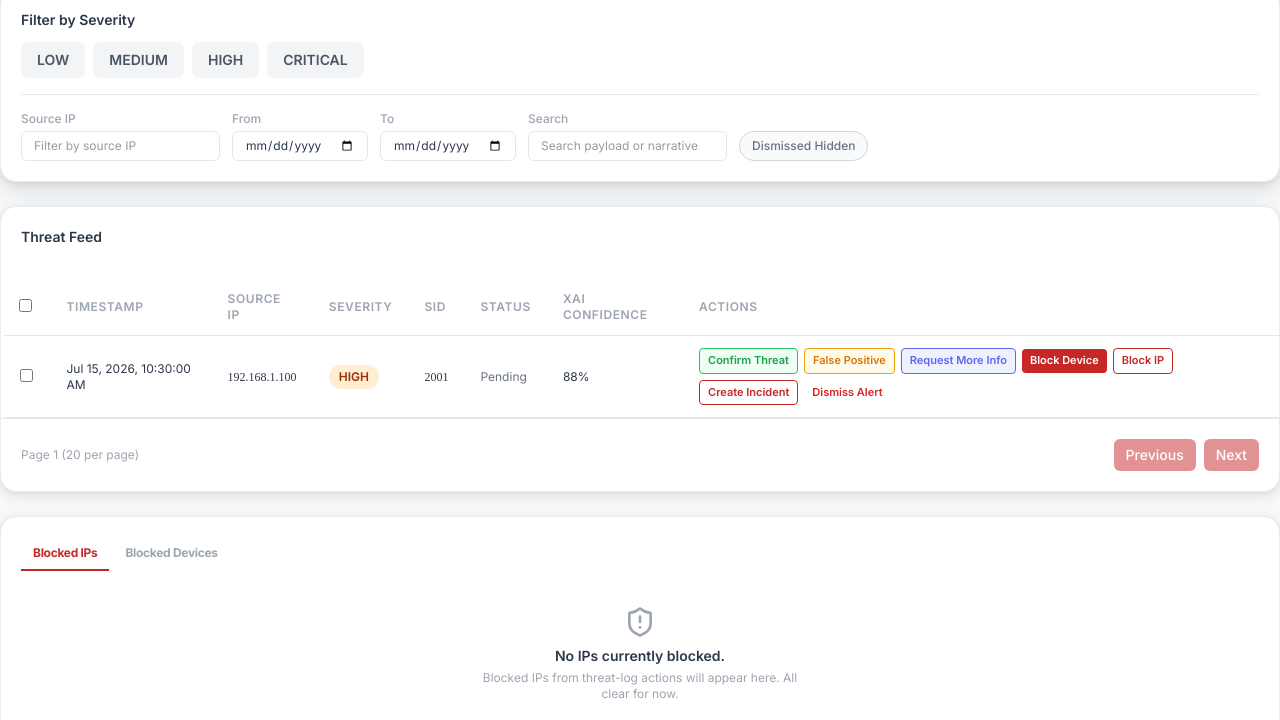
Scenario: M8: Security Monitoring page — device-vs-IP blocking flow (#571) › Block Device button confirms once and blocks the device only
The width and height of the screenshot is (1280, 720).
(page scrolled)
Check: the text "192.168.1.100" is shown, box [212,336,313,418]
Step 1. Click the button "Block Device" → coordinates (1064, 361), box [1022,349,1107,373]
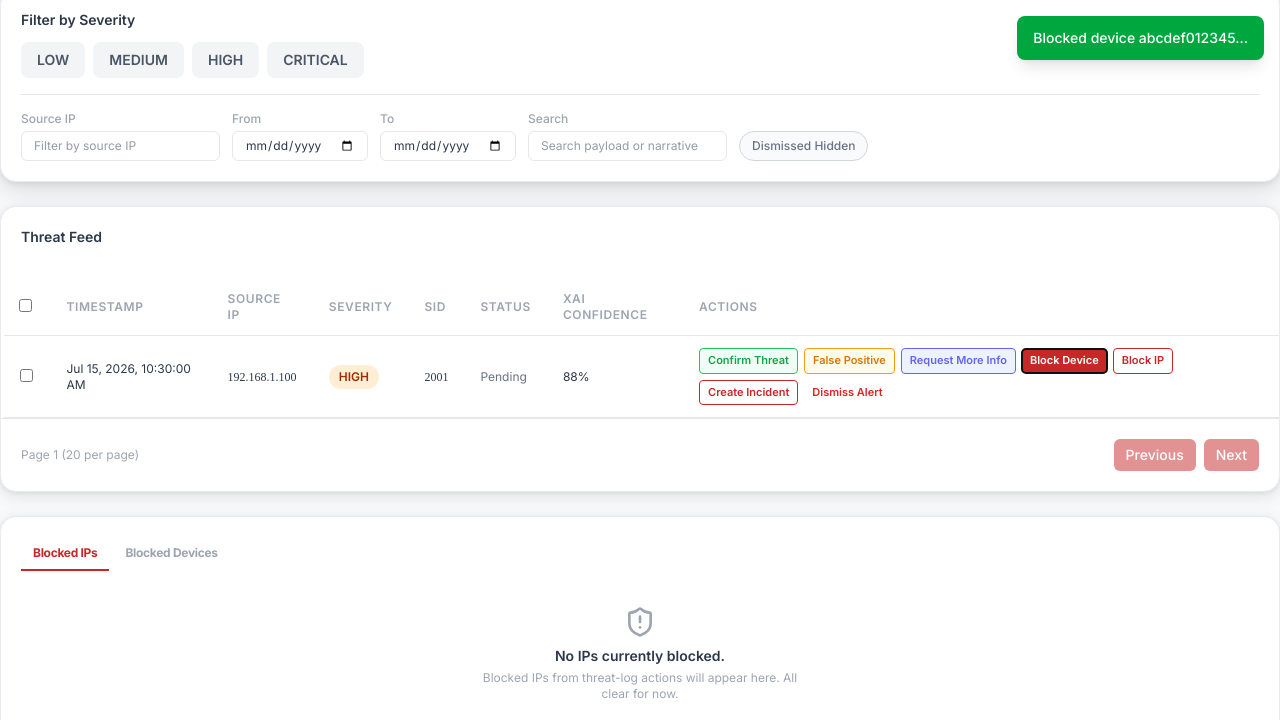
Check: the text "Blocked device abcdef012345…" is shown, box [1017,16,1264,60]
